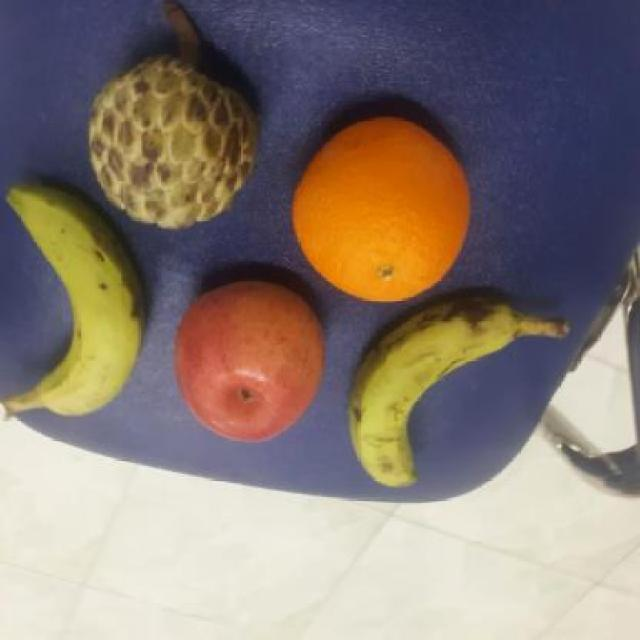apple: (168, 276, 331, 445)
banana: (339, 285, 522, 492), (9, 176, 146, 418)
sugar apple: (88, 52, 266, 237)
